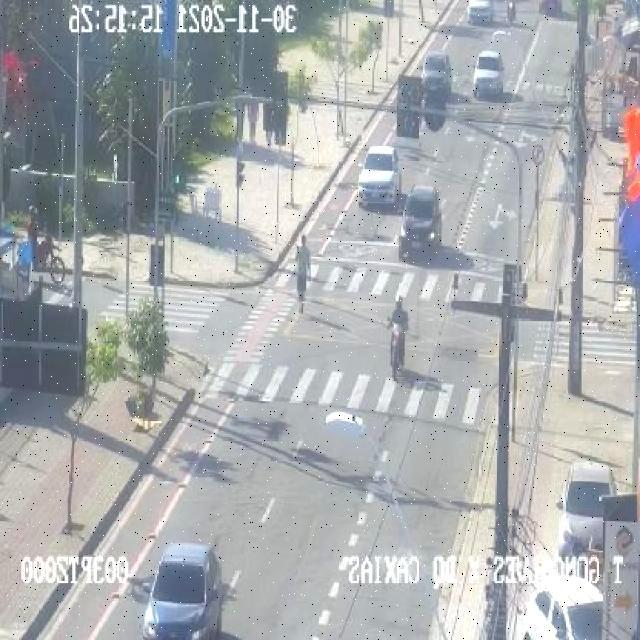Car: (142, 543, 222, 638), (516, 573, 604, 638), (558, 461, 619, 553), (399, 185, 443, 256), (359, 144, 402, 206), (472, 50, 506, 99), (421, 52, 451, 96), (466, 0, 494, 25), (620, 17, 640, 50), (639, 0, 640, 115)
Cycle: (382, 292, 413, 361)
